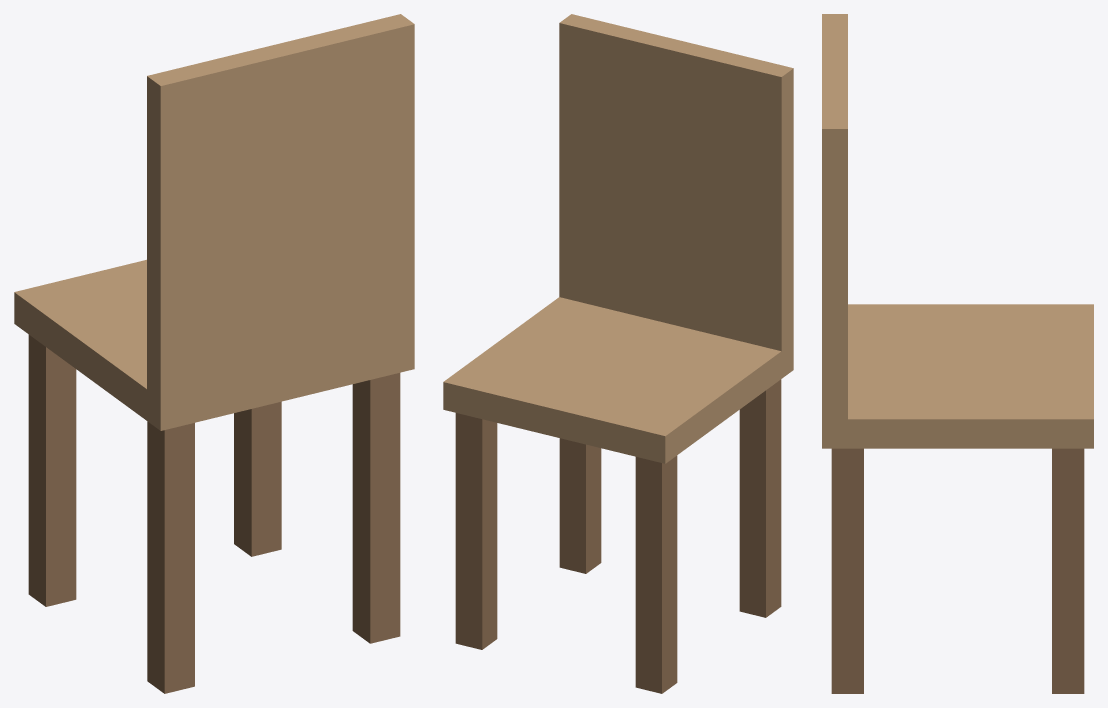
File: chair.glb
3 renders of one model, left to right at view 1: azimuth 30°, elevation 25°; view 2: azimuth 150°, elevation 25°; view 3: azimuth 270°, elevation 25°, orthographic. The views are drawn at different scales.
Visible parts, largest first — view 1: chair; view 2: chair; view 3: chair.
Boxes of the visible parts, bbox=[...] form: chair: bbox=[14, 14, 414, 693]; chair: bbox=[443, 14, 793, 693]; chair: bbox=[822, 14, 1093, 693].
Bounding box in the file's own units: 0.42 × 0.97 × 0.42.
